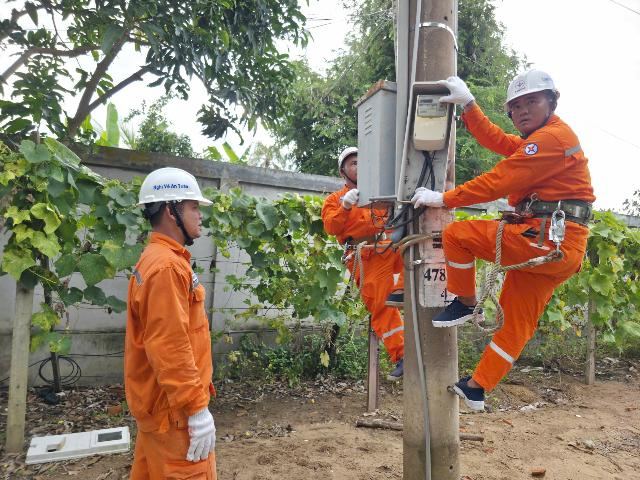gloves: (177, 401, 220, 470), (404, 181, 441, 217), (338, 188, 362, 219)
harness: (496, 185, 611, 246), (322, 224, 420, 260)
helmet: (129, 155, 218, 215), (498, 66, 567, 113), (323, 143, 366, 177)
shoes: (416, 286, 494, 335), (445, 373, 492, 412), (378, 355, 419, 387), (385, 284, 418, 309)
